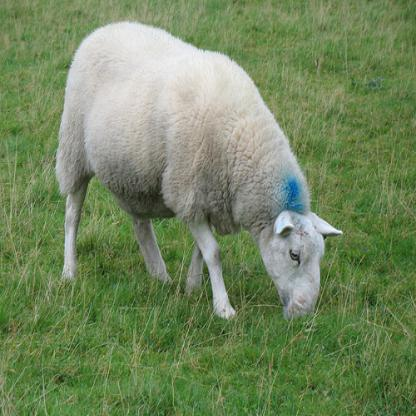sheep: (53, 20, 343, 322)
